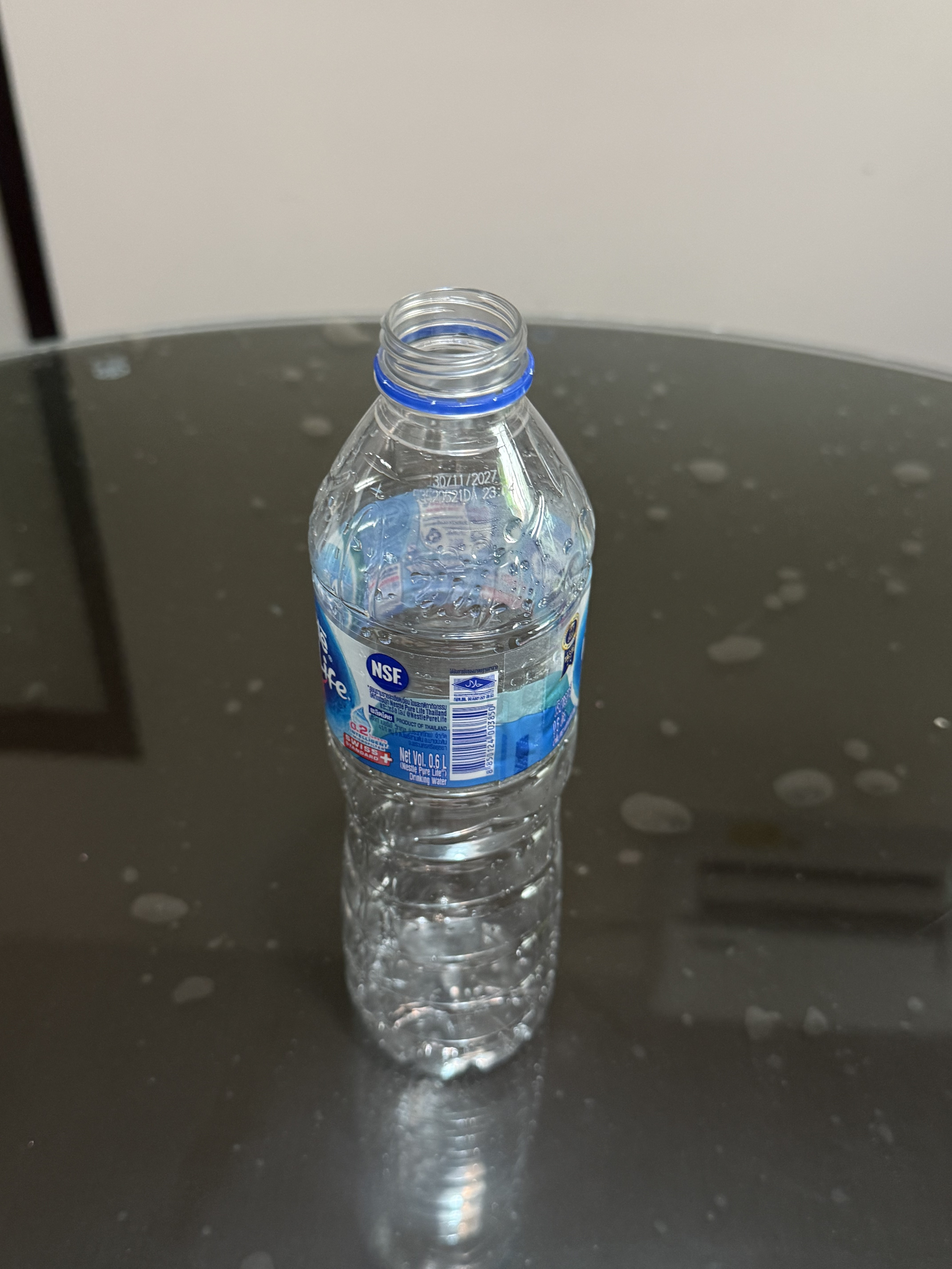no_cap: (367, 283, 539, 420)
